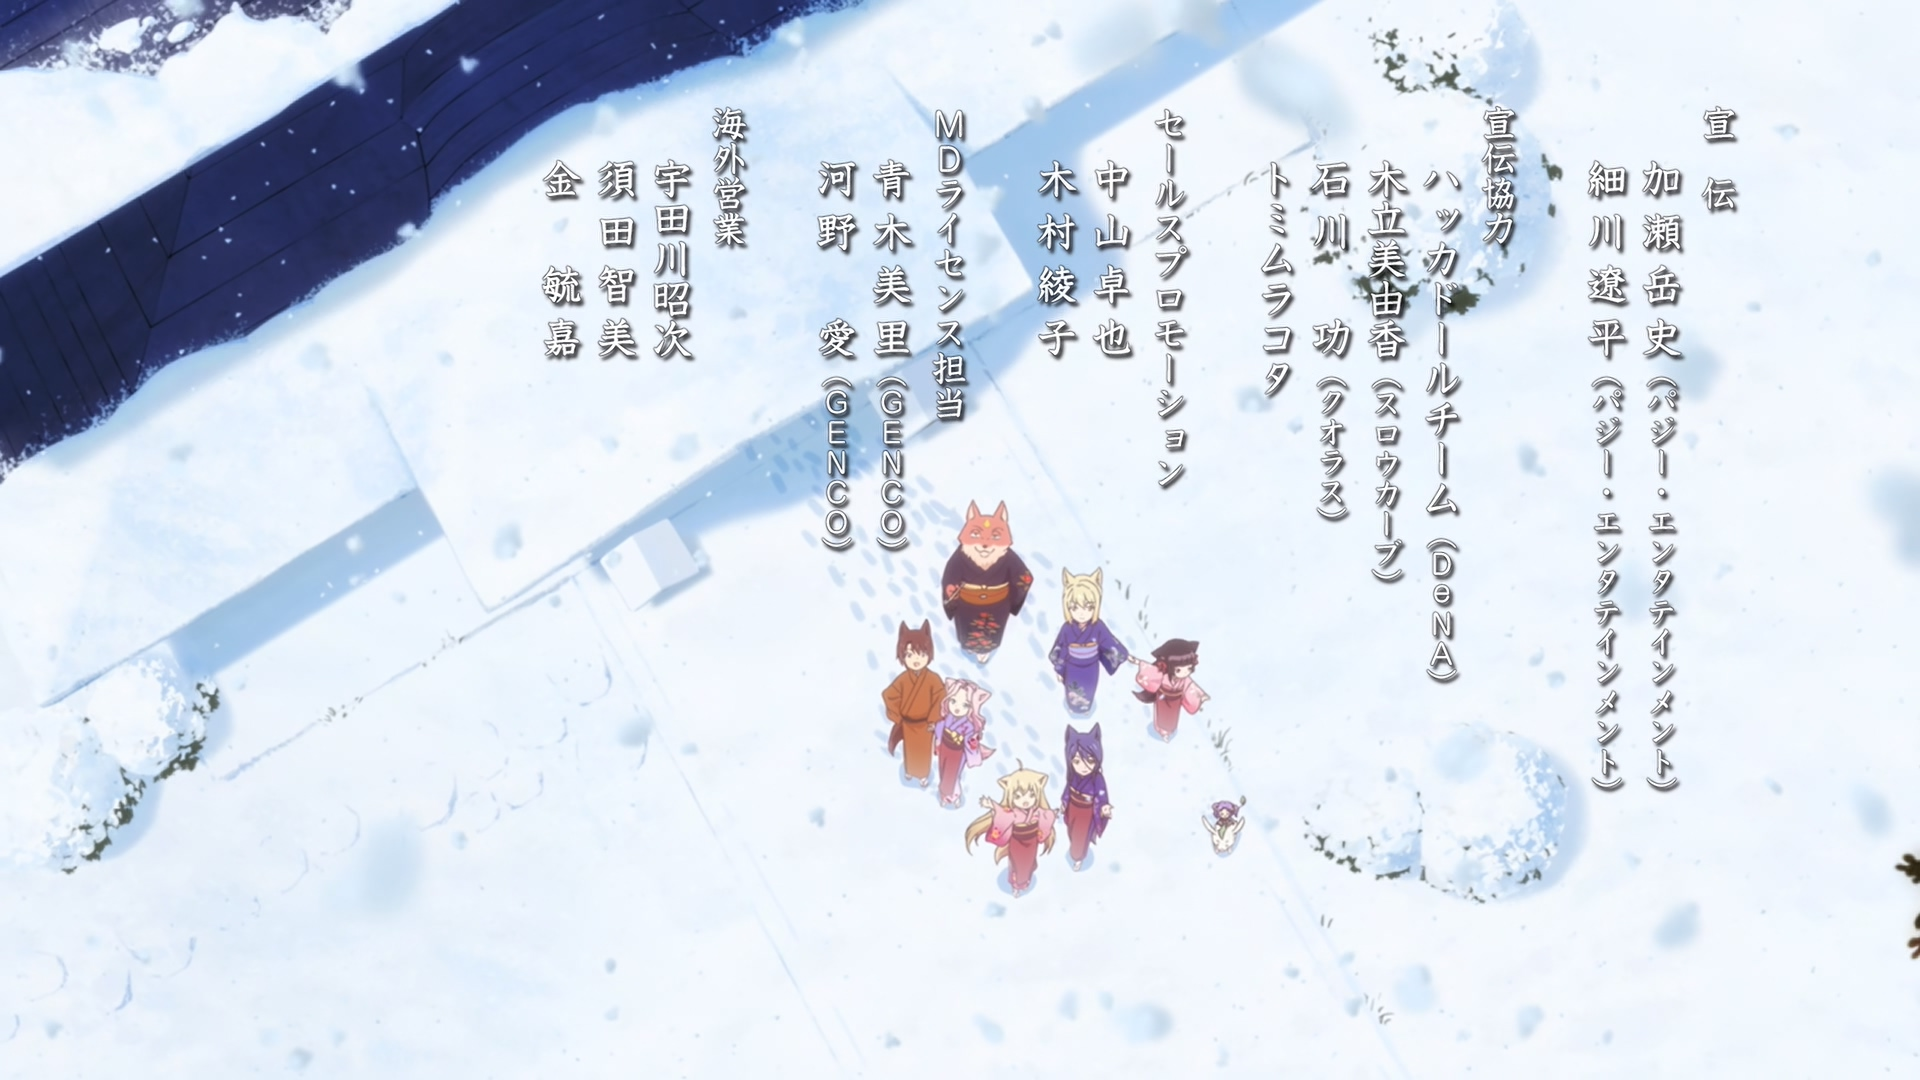枣: (884, 622, 945, 789)
柚: (963, 758, 1062, 895)
桐: (1050, 564, 1126, 711)
椿: (942, 502, 1033, 663)
樱: (1134, 640, 1209, 738)
瓜之介: (1205, 811, 1247, 856)
皋: (1058, 723, 1109, 868)
莲: (928, 679, 990, 806)
阿菊: (1208, 800, 1244, 828)
